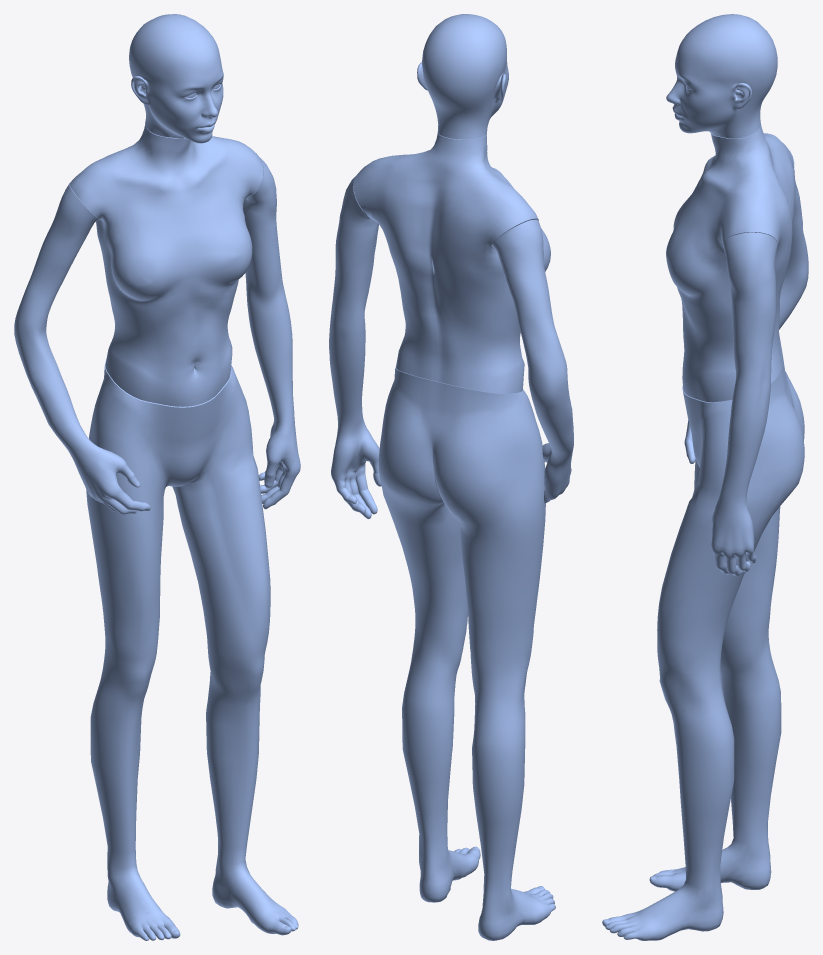
Rendered from Mannequins_female_standing.fbx.
The picture shows the model from 3 angles, left to right: view 1: azimuth 30°, elevation 25°; view 2: azimuth 150°, elevation 25°; view 3: azimuth 270°, elevation 25°; orthographic projection.
Visible parts, largest first — view 1: Mannequins_female_s_LOD0 (×5); view 2: Mannequins_female_s_LOD0 (×5); view 3: Mannequins_female_s_LOD0 (×5).
Part boxes in pixels (x1,y1,x2,y2): Mannequins_female_s_LOD0 (×5): [14, 14, 300, 940]; Mannequins_female_s_LOD0 (×5): [329, 14, 573, 940]; Mannequins_female_s_LOD0 (×5): [602, 14, 808, 940].
Bounding box in the file's own units: 125 × 422 × 88.66.
